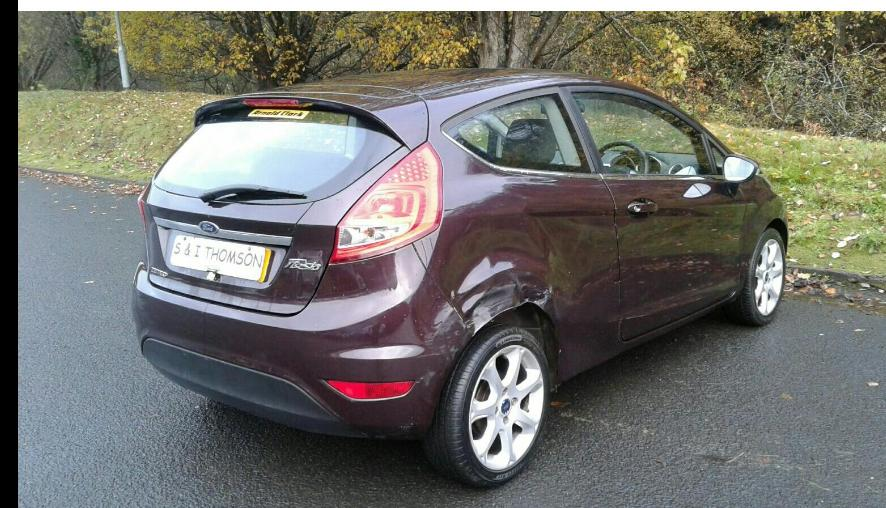Back-bumper: (131, 244, 470, 440)
Back-wheel: (422, 323, 551, 490)
Back-window: (440, 87, 599, 177)
Back-windshield: (152, 108, 403, 204)
Fender: (737, 175, 787, 290)
Front-door: (558, 86, 746, 346)
Front-wheel: (727, 229, 786, 326)
Front-window: (571, 92, 713, 174)
License-plate: (170, 234, 272, 283)
Mirror: (709, 153, 759, 184)
Quarter-panel: (414, 173, 621, 377)
Rocker-panel: (558, 289, 742, 388)
Roof: (289, 67, 675, 138)
Tail-light: (329, 141, 443, 265)
Trunk: (139, 87, 428, 315)
